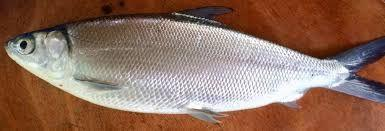Bangus: (4, 5, 385, 124)
